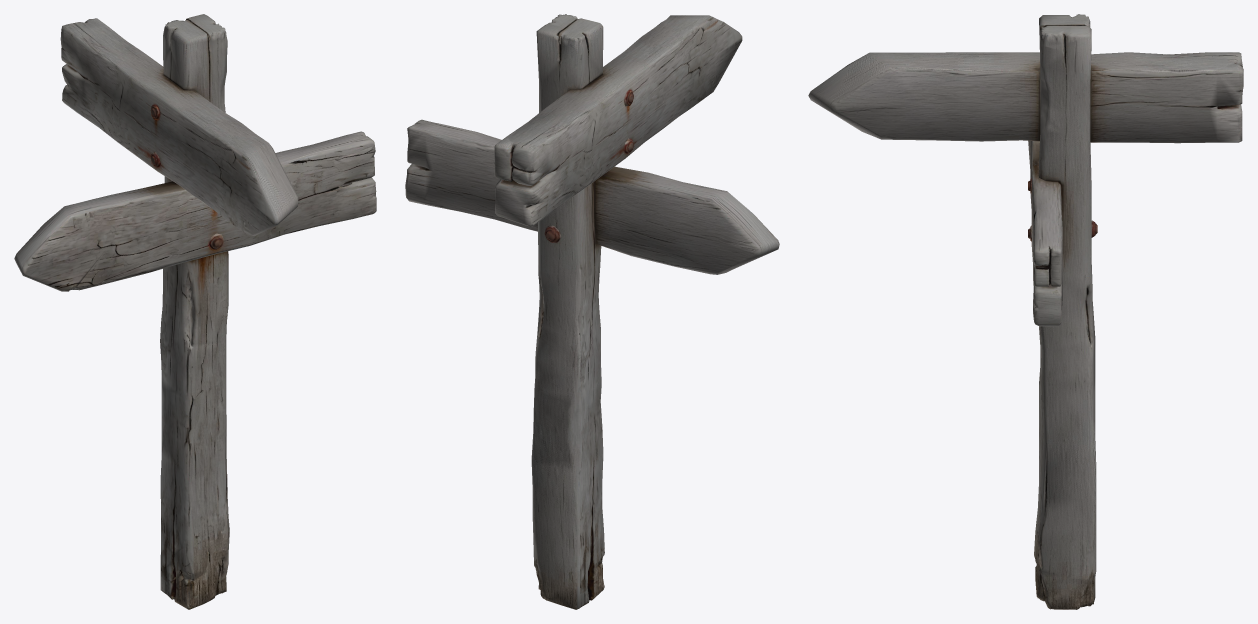
The model's file is original_glb.glb.
The picture shows the model from 3 angles, left to right: view 1: azimuth 30°, elevation 25°; view 2: azimuth 150°, elevation 25°; view 3: azimuth 270°, elevation 25°; orthographic projection.
Visible parts, largest first — view 1: weathered signpost; view 2: weathered signpost; view 3: weathered signpost.
Part boxes in pixels (box(x1,y1,x2,y2)): weathered signpost: box(14, 14, 376, 609); weathered signpost: box(405, 14, 779, 609); weathered signpost: box(808, 14, 1243, 609).
Size of the model in its own units: 0.6582 by 0.998 by 0.6816.
Materials: 1 (1 with a texture image).
